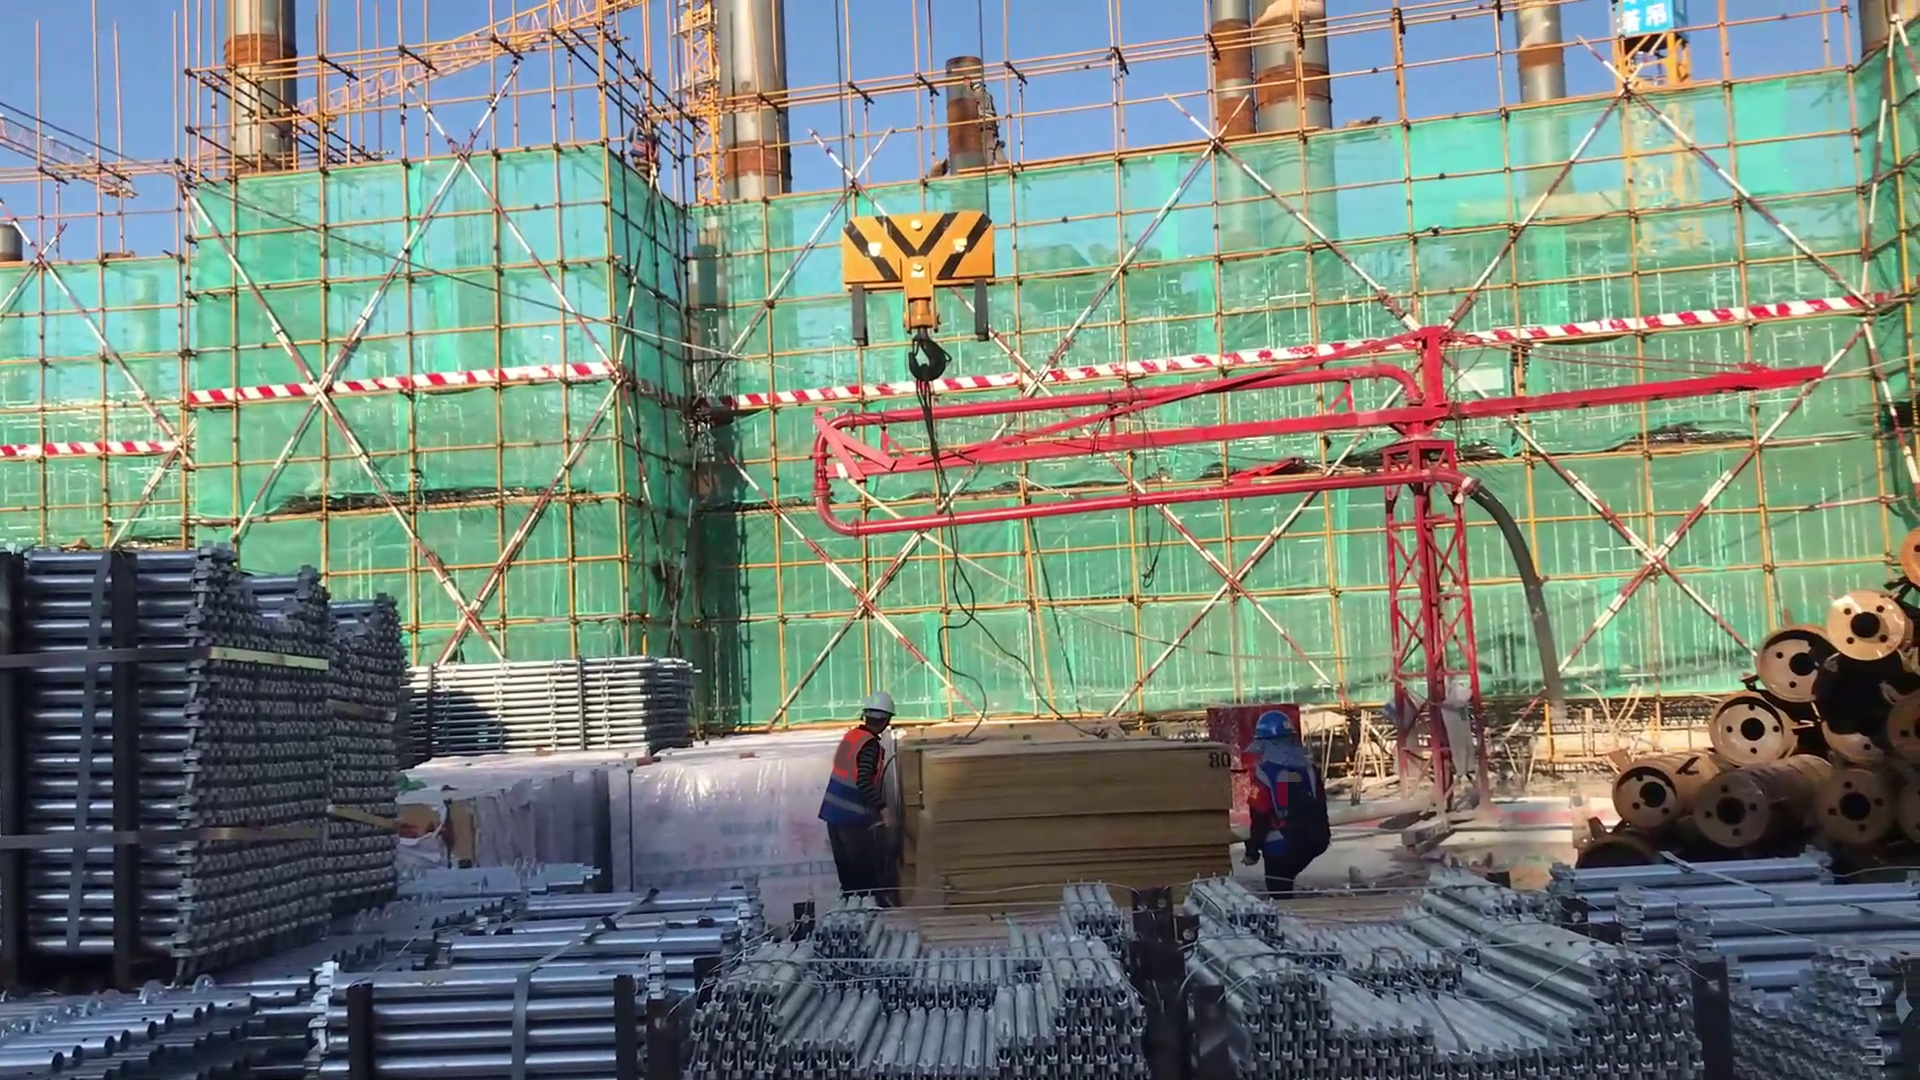board: (919, 737, 1230, 909)
helmet: (1256, 704, 1295, 758), (862, 691, 901, 731)
hook: (826, 195, 1012, 470)
person: (1232, 708, 1336, 912), (822, 690, 906, 930), (966, 66, 1011, 194)
scaffold: (1, 542, 401, 975), (1166, 860, 1699, 1080), (655, 903, 1177, 1080), (1536, 842, 1920, 1076), (369, 866, 746, 1080), (1, 945, 336, 1080), (406, 637, 718, 771)
slogan: (1605, 1, 1697, 37)
vest: (1252, 750, 1327, 863), (819, 726, 888, 834)
